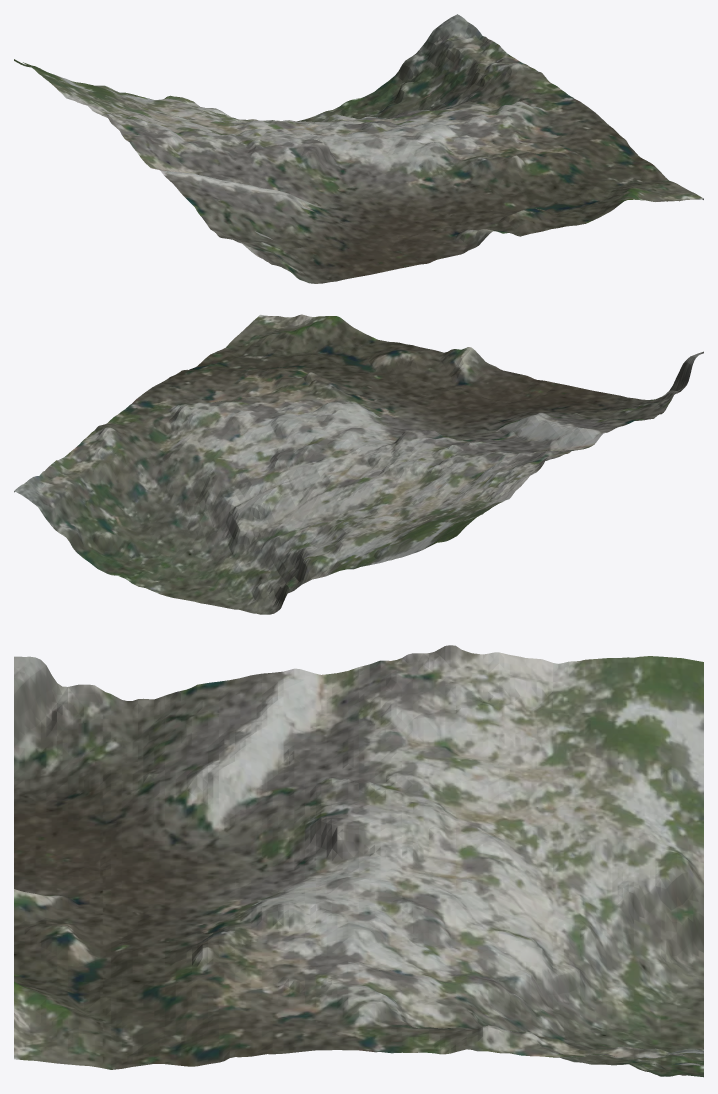
3 renders of one model, top to bottom at view 1: azimuth 30°, elevation 25°; view 2: azimuth 150°, elevation 25°; view 3: azimuth 270°, elevation 25°, orthographic. The views are drawn at different scales.
Bounding box in the file's own units: 250 × 78.35 × 241.
1 material, 1 textured.
